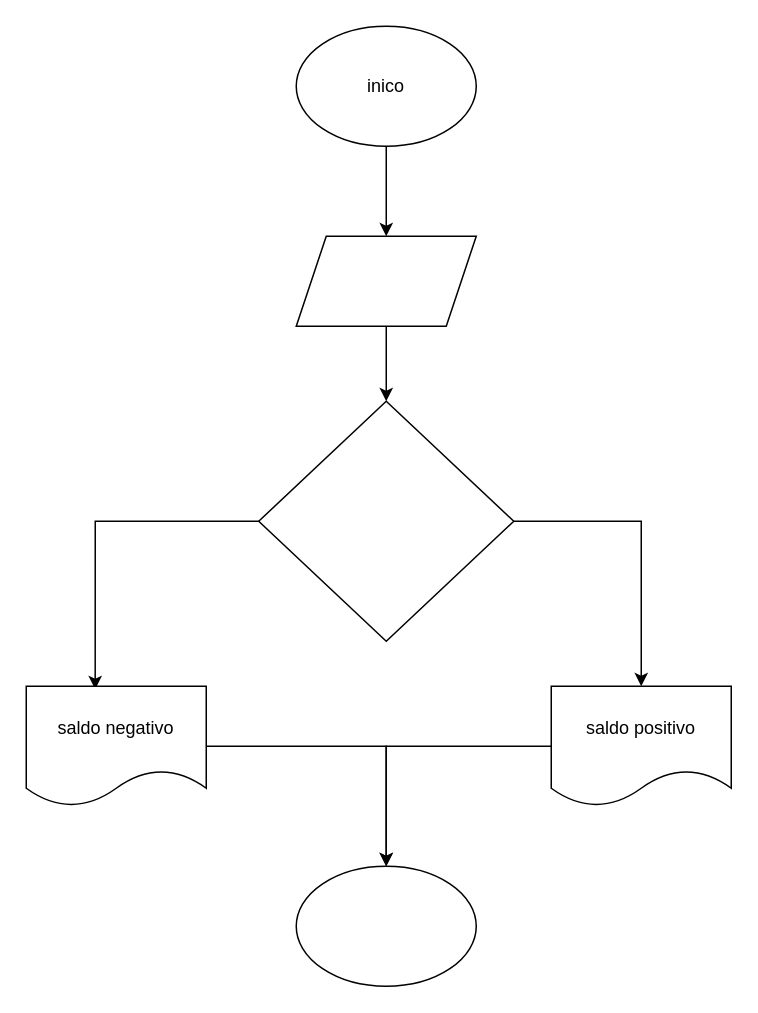
Some shapes in this 758 by 1013 pixel diagram are drawn without their labels. The shapes that lost their labels are listed below. From the top down, each one's centre as x and y in pixels, then its label:
At [385,280]: "saldo, compra1, compra2, compra3 saldoat".
At [385,520]: "saldoat <- (saldo - compra1 - compra2 - compra3) saldoat>0".
